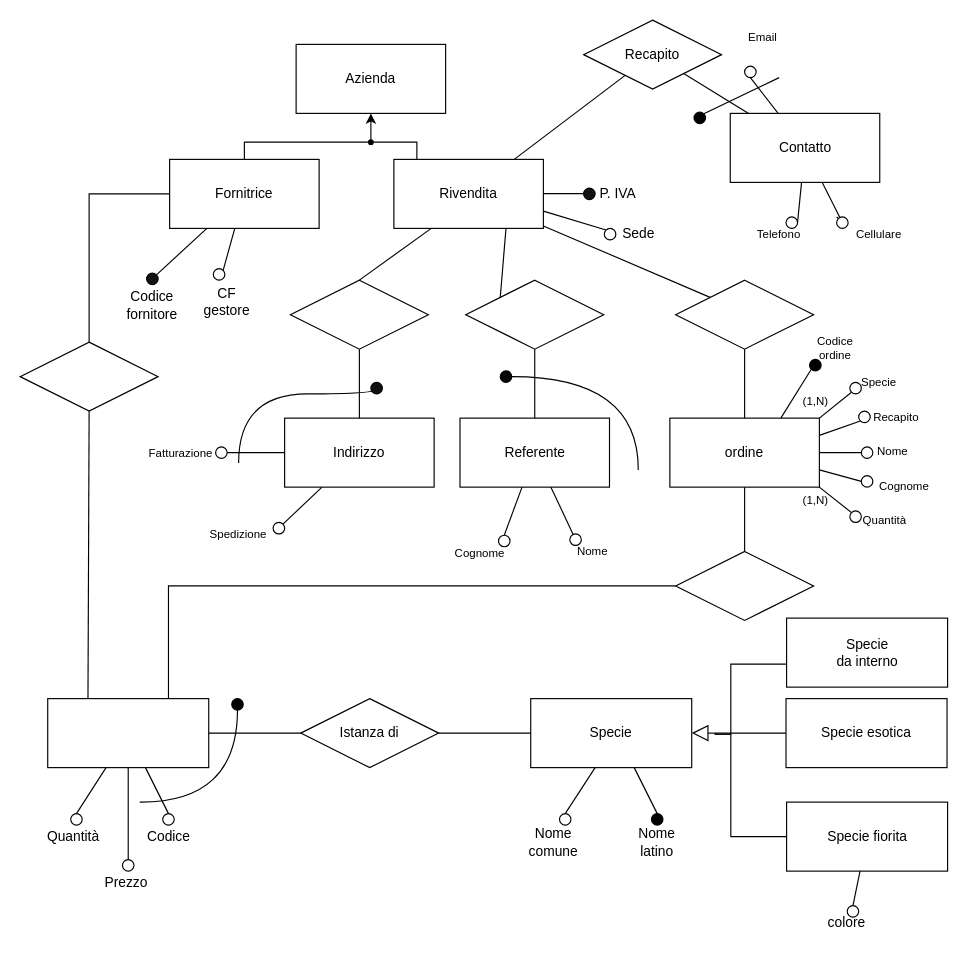
Some shapes in this 968 by 960 pixel diagram are drawn without their labels. Here are the shapes that lost their labels. From the top down, the centre of each, then its label:
point (358, 314): locazione
point (534, 314): riferimento
point (744, 314): effettua
point (88, 376): rifornisce
point (744, 585): contenuto
point (128, 732): Pianta
